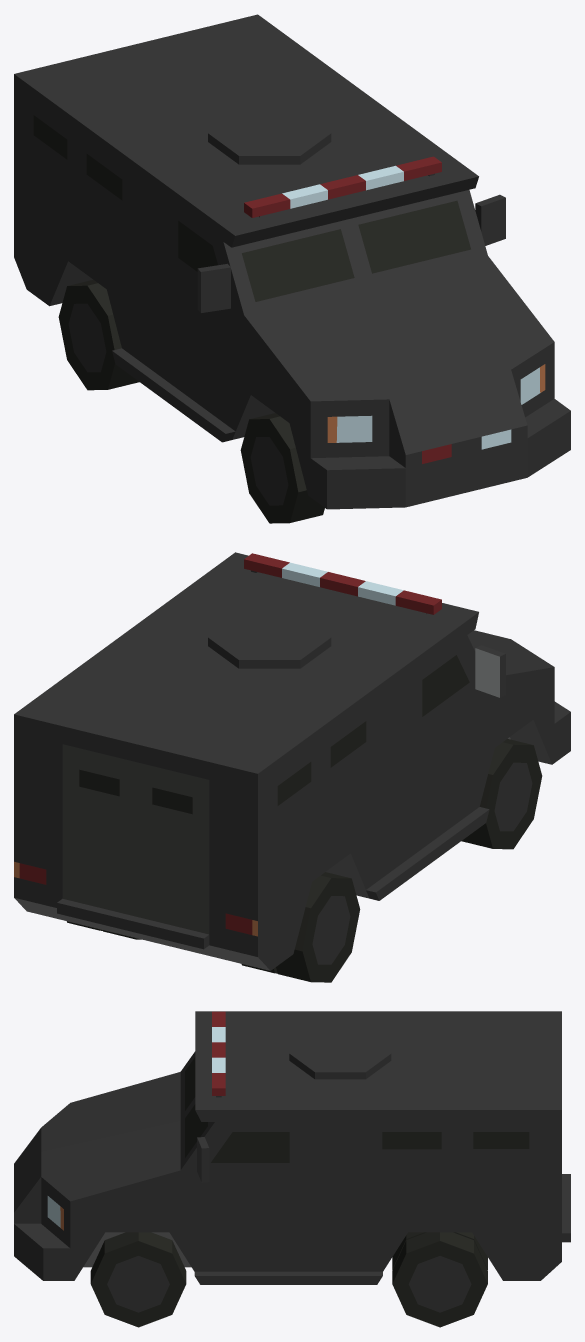
Rendered from Veh_SWAT_APC_01.obj.
The picture shows the model from 3 angles, top to bottom: view 1: azimuth 30°, elevation 25°; view 2: azimuth 150°, elevation 25°; view 3: azimuth 270°, elevation 25°; orthographic projection. The views are drawn at different scales.
Bounding box in the file's own units: 1.89 × 1.63 × 3.6.
